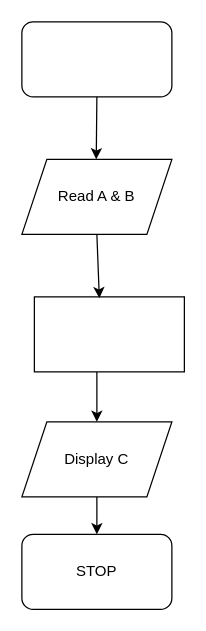
This 206x631 diagram has some shape labels left out. The shapes that lost their labels are listed below. From the top down, each one's centre as x and y in pixels, then its label:
(96,59): START
(108,334): C=A+B
